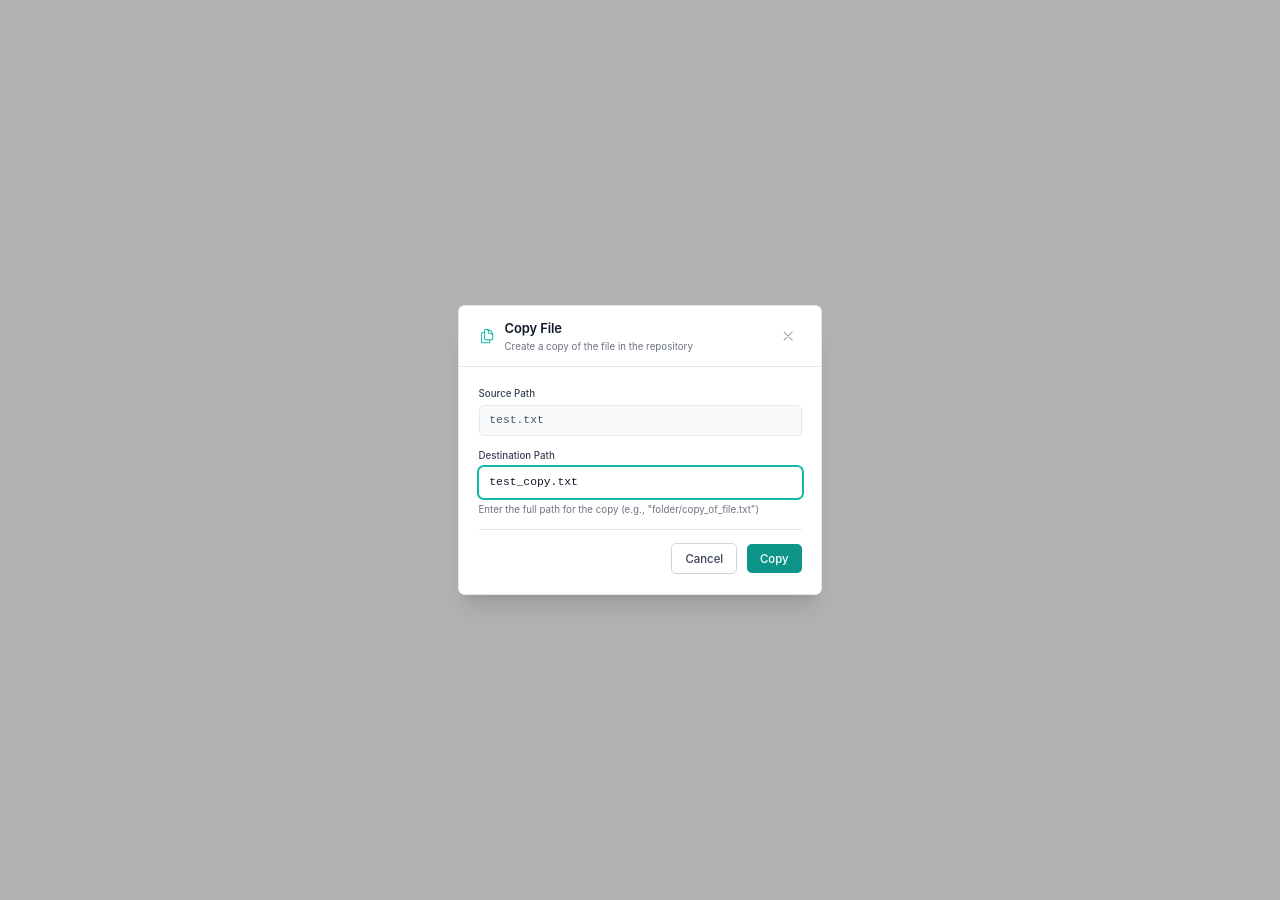
CopyFileModal › validates same source and destination
Replace the text in the field with placeholder "Enter destination path" with "test.txt" at (640, 483), box [478, 467, 802, 498]
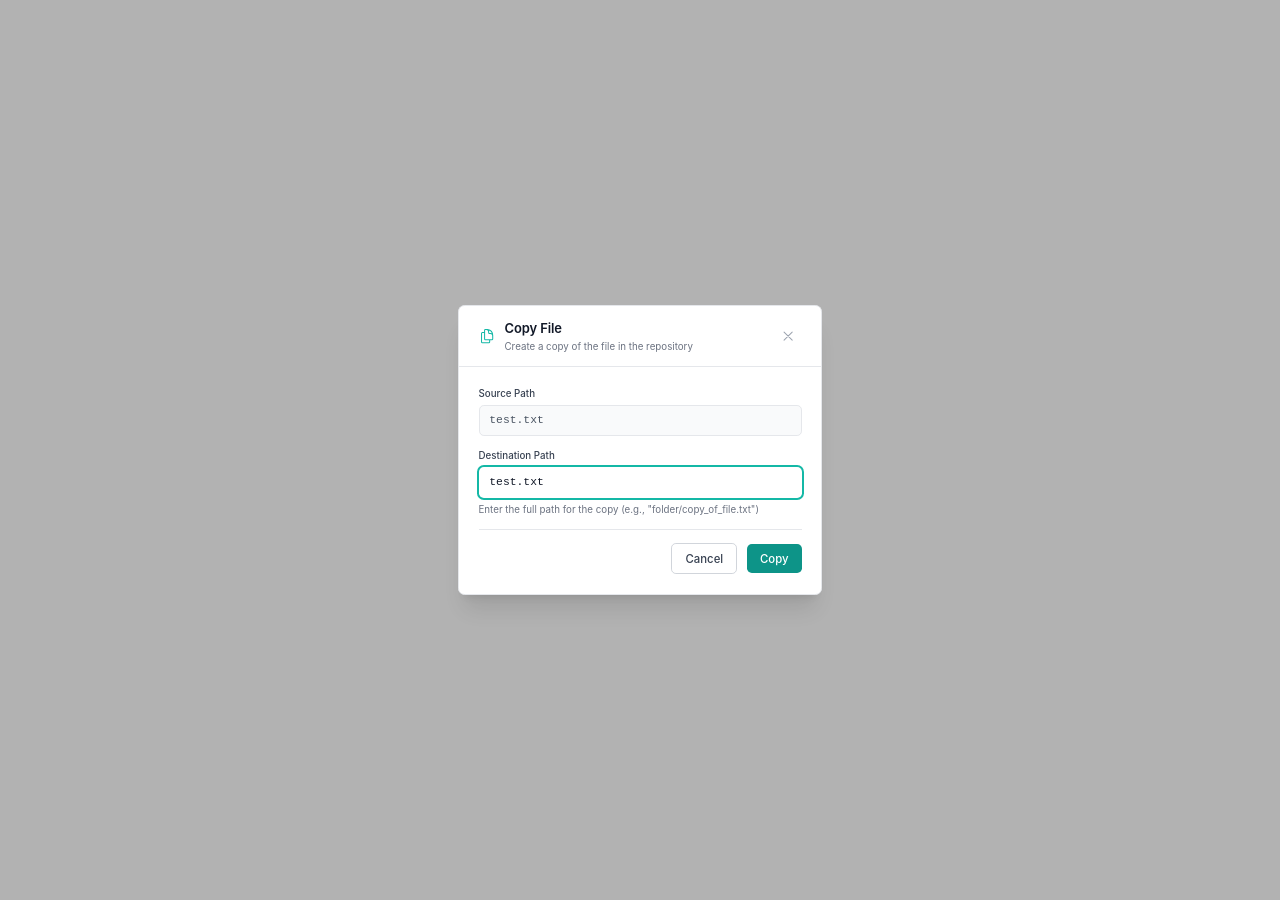
Click the button "Copy".
click(774, 559)  # box [747, 544, 802, 573]
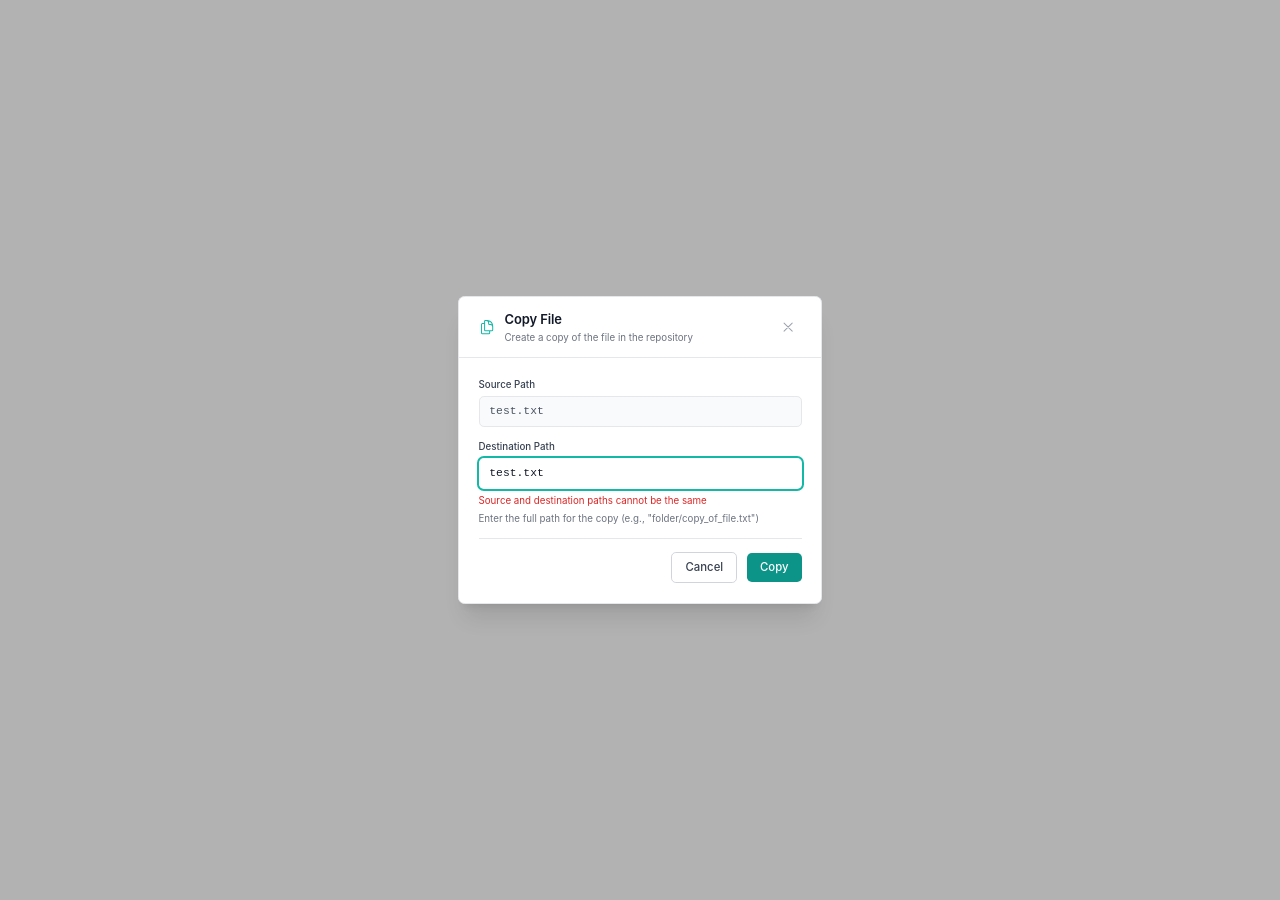
expect the text "Source and destination paths cannot be the same" is shown: met, box [478, 495, 707, 506]
